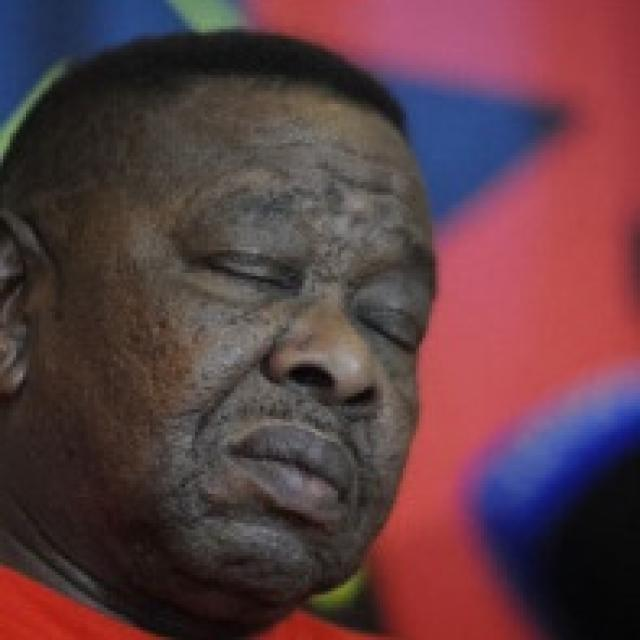Depress: (52, 76, 445, 630)
